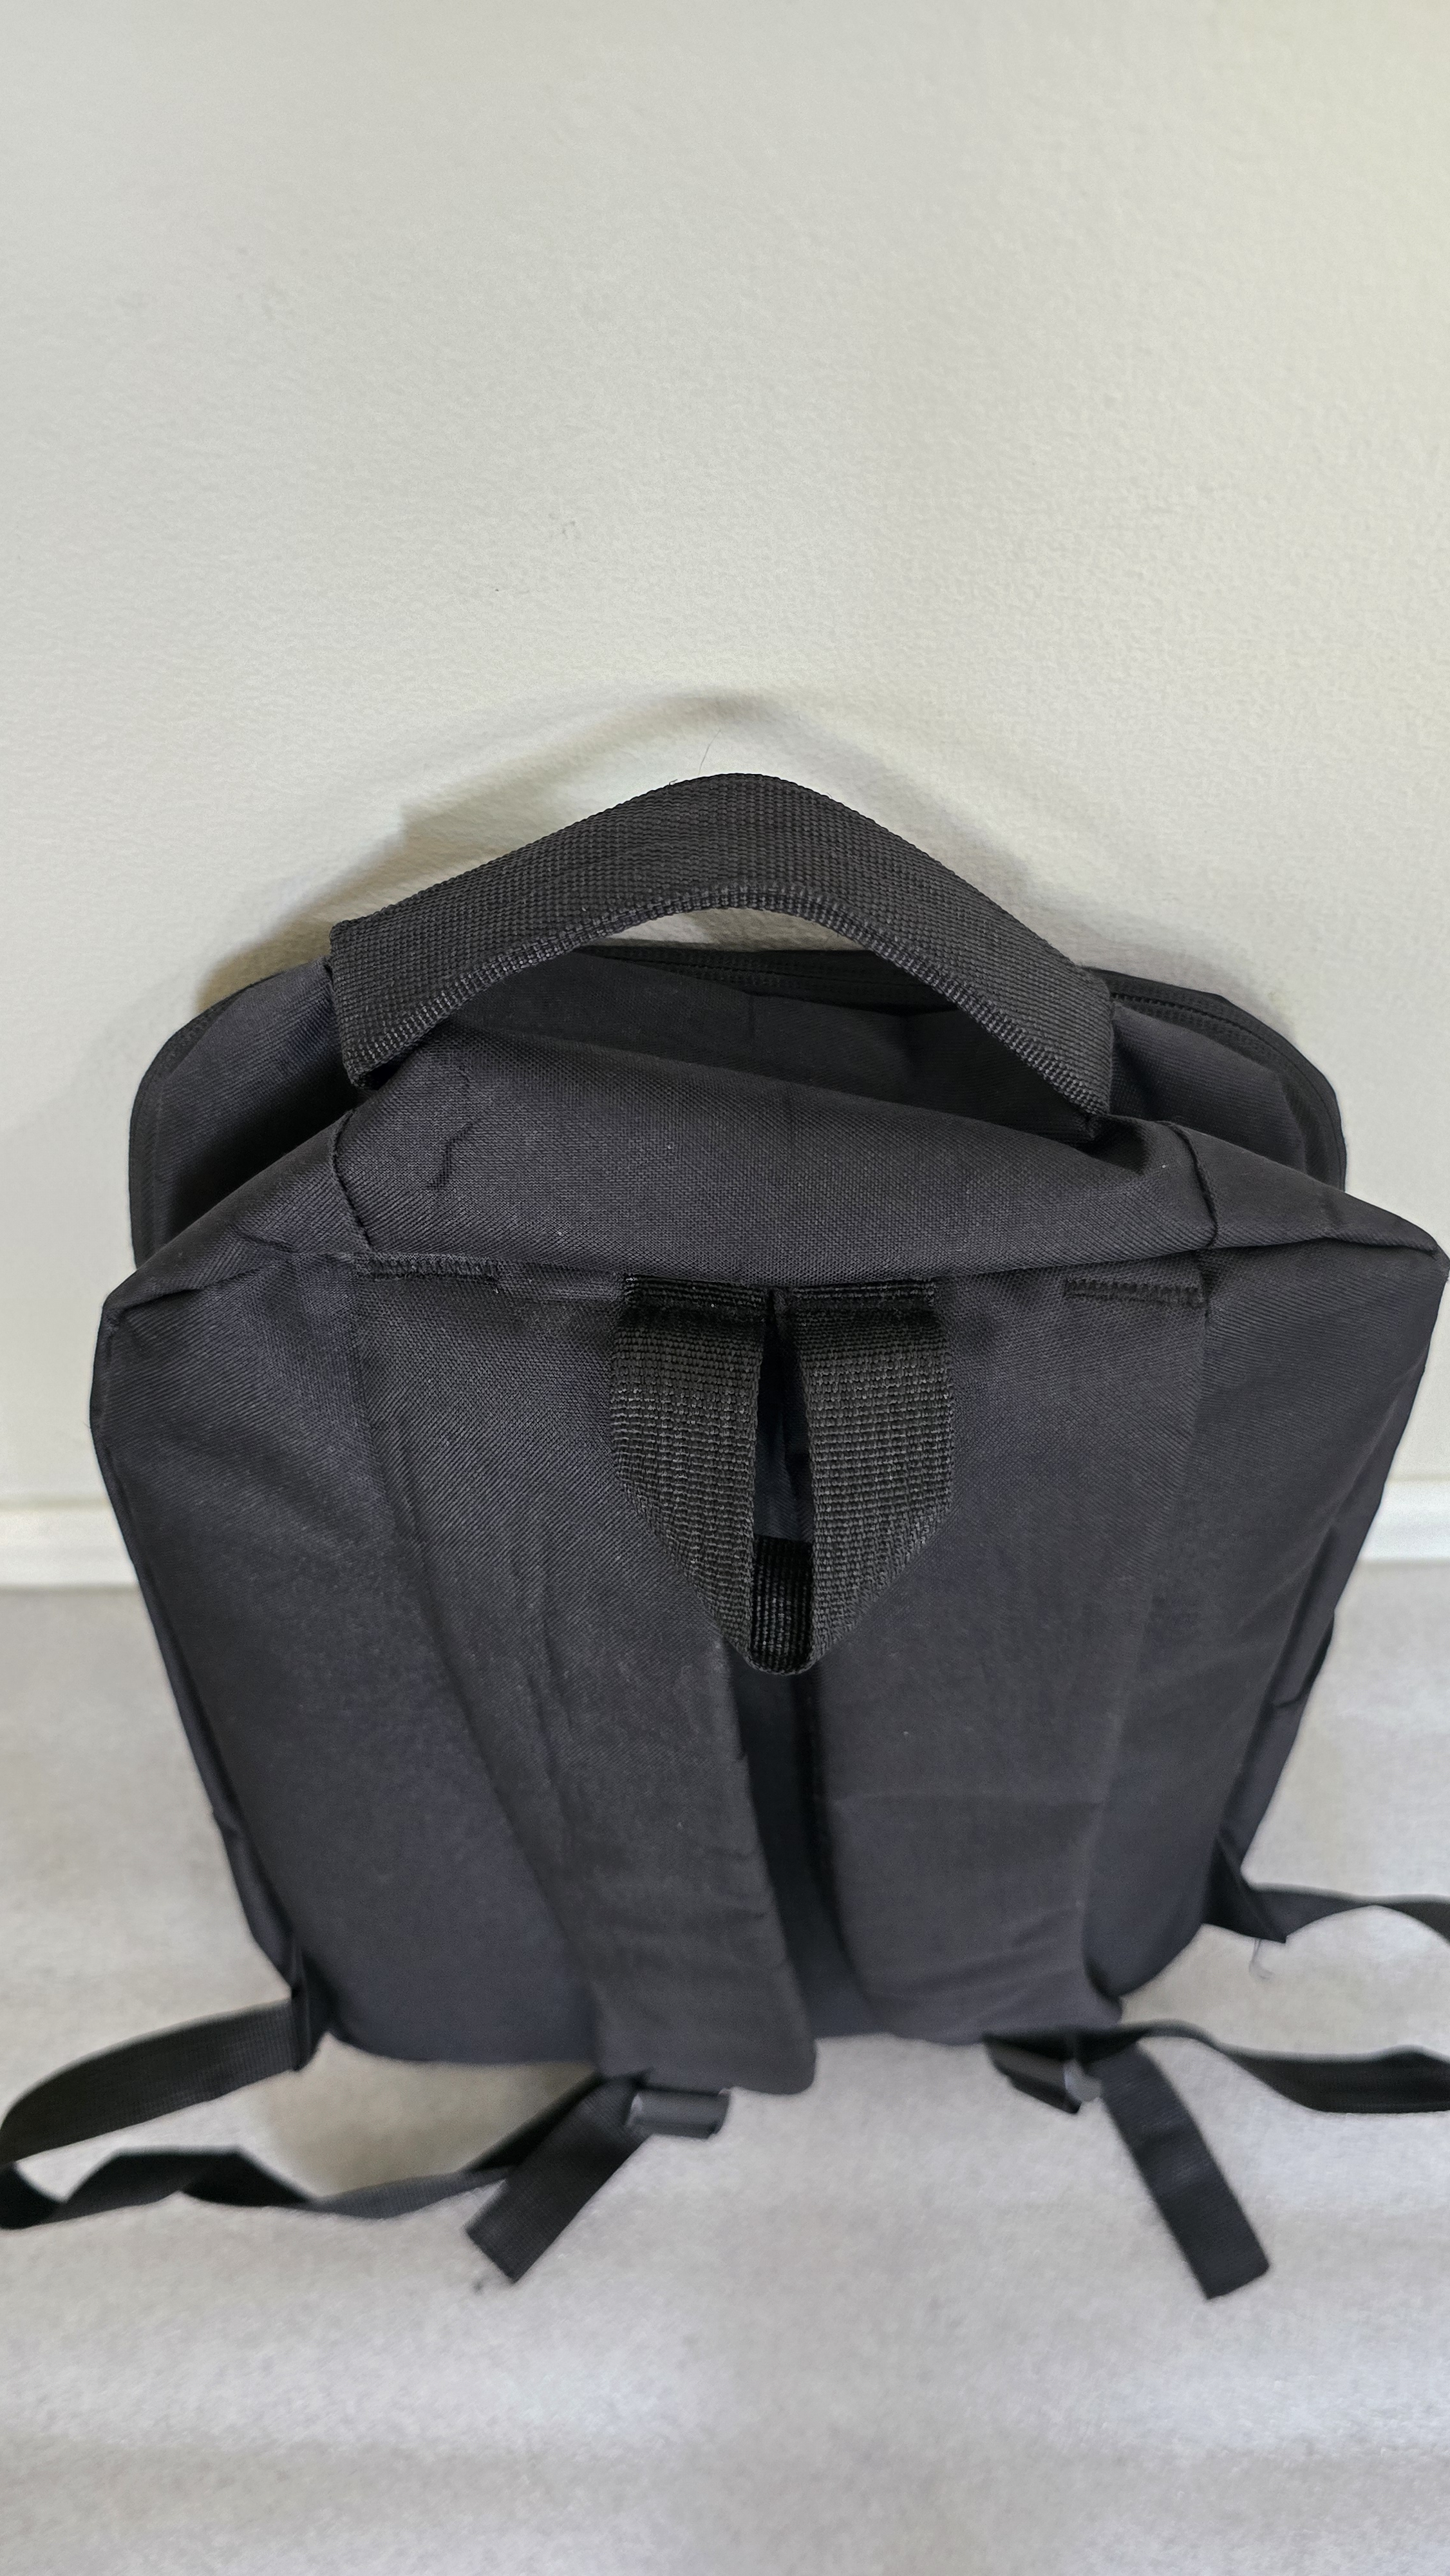bag: (106, 754, 1450, 2196)
